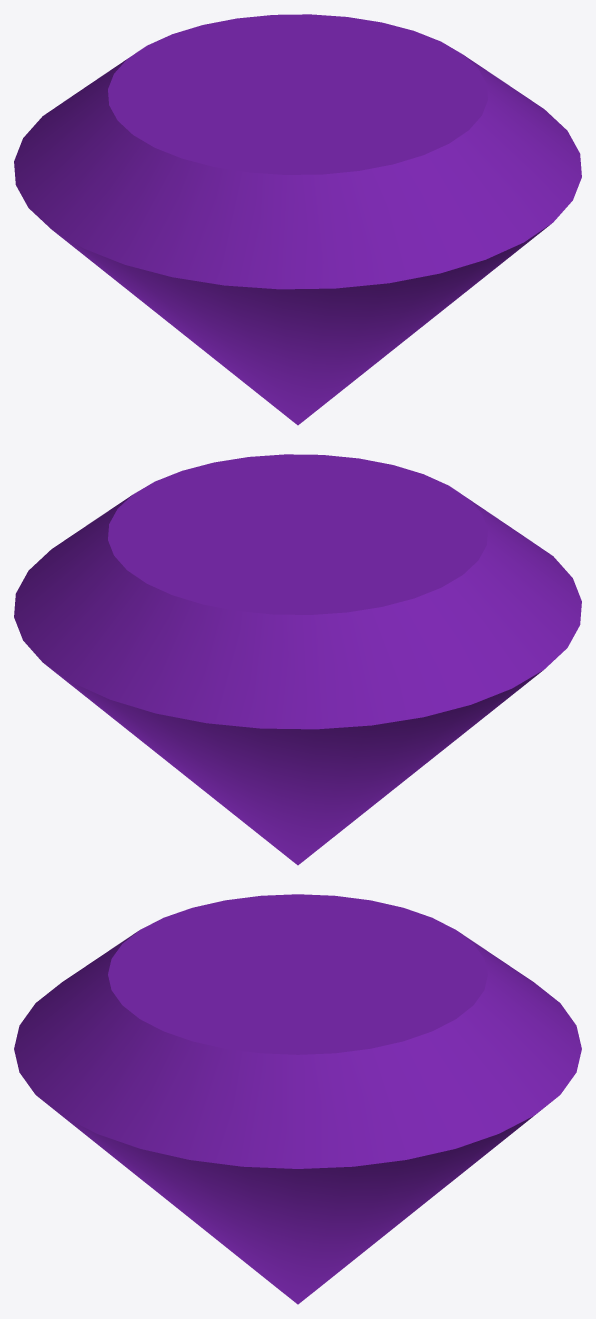
Rendered from diamond.fbx.
3 views of the same model, one above another, from view 1: azimuth 30°, elevation 25°; view 2: azimuth 150°, elevation 25°; view 3: azimuth 270°, elevation 25° (orthographic).
Visible parts, largest first — view 1: Diamond; view 2: Diamond; view 3: Diamond.
Boxes of the visible parts, bbox=[...] form: Diamond: bbox=[14, 14, 581, 425]; Diamond: bbox=[14, 454, 581, 865]; Diamond: bbox=[14, 894, 581, 1304].
Size of the model in its own units: 15.43 by 9.9 by 15.43.
